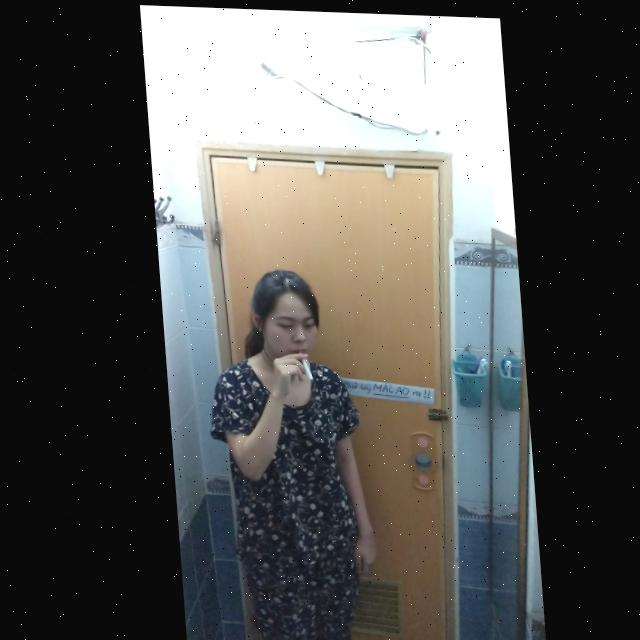cigarette: (293, 349, 308, 379)
